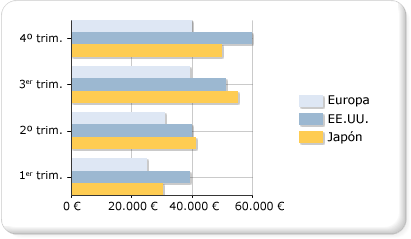canvas: (74, 18, 255, 194)
legend: (296, 91, 376, 166)
x-axis: (68, 194, 261, 200)
x-labels: (59, 200, 289, 214)
y-axis: (66, 16, 73, 198)
y-labels: (17, 28, 64, 188)
